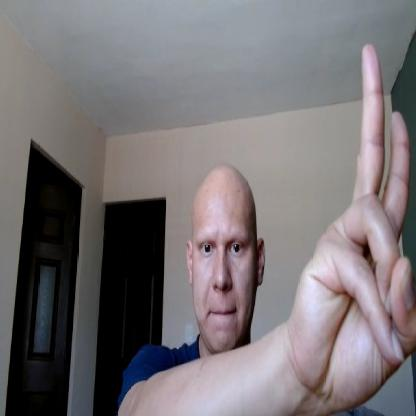V: (289, 42, 415, 415)
